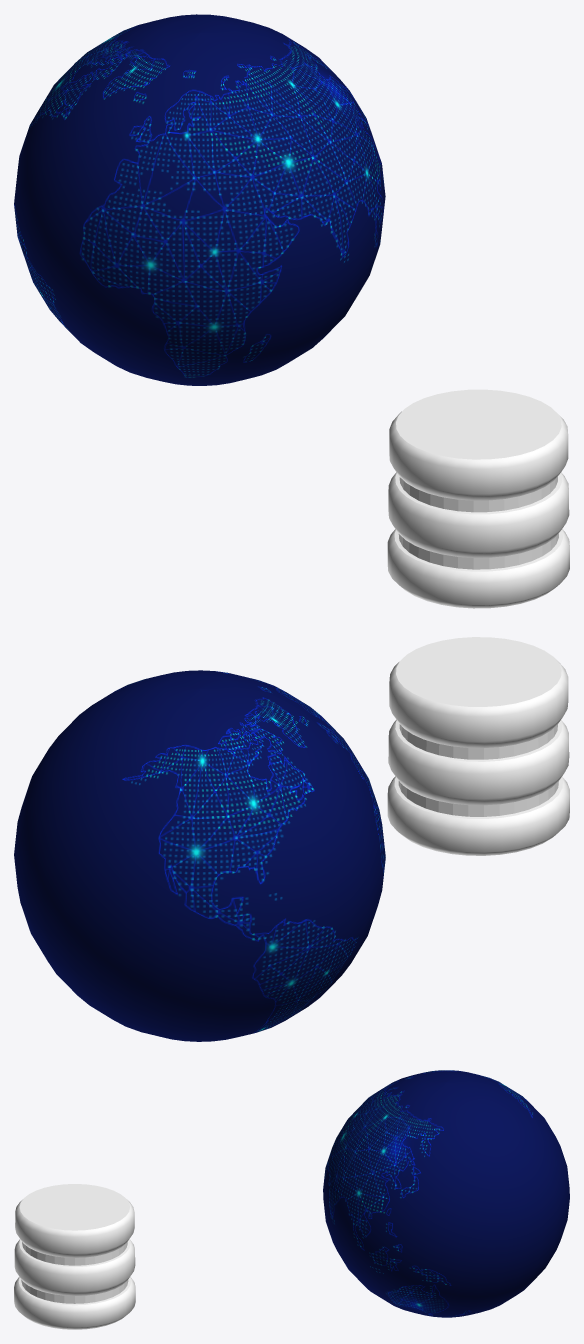
Rendered from escena1.gltf.
3 views of the same model, one above another, from view 1: azimuth 30°, elevation 25°; view 2: azimuth 150°, elevation 25°; view 3: azimuth 270°, elevation 25° (orthographic). The views are drawn at different scales.
Visible parts, largest first — view 1: Sphere, Cylinder.000; view 2: Sphere, Cylinder.000; view 3: Sphere, Cylinder.000.
Boxes of the visible parts, x1,y1,x2,y2 form: Sphere: [14, 14, 385, 385]; Cylinder.000: [387, 389, 569, 608]; Sphere: [14, 670, 385, 1041]; Cylinder.000: [387, 637, 569, 855]; Sphere: [323, 1070, 569, 1317]; Cylinder.000: [14, 1184, 135, 1329].
Size of the model in its own units: 3.99 by 3.98 by 8.98.
Materials: 3 (1 with a texture image).
